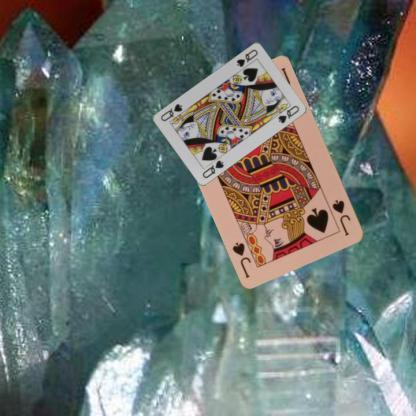Js: (330, 197, 352, 238)
Qs: (234, 46, 259, 68), (200, 157, 225, 179)
